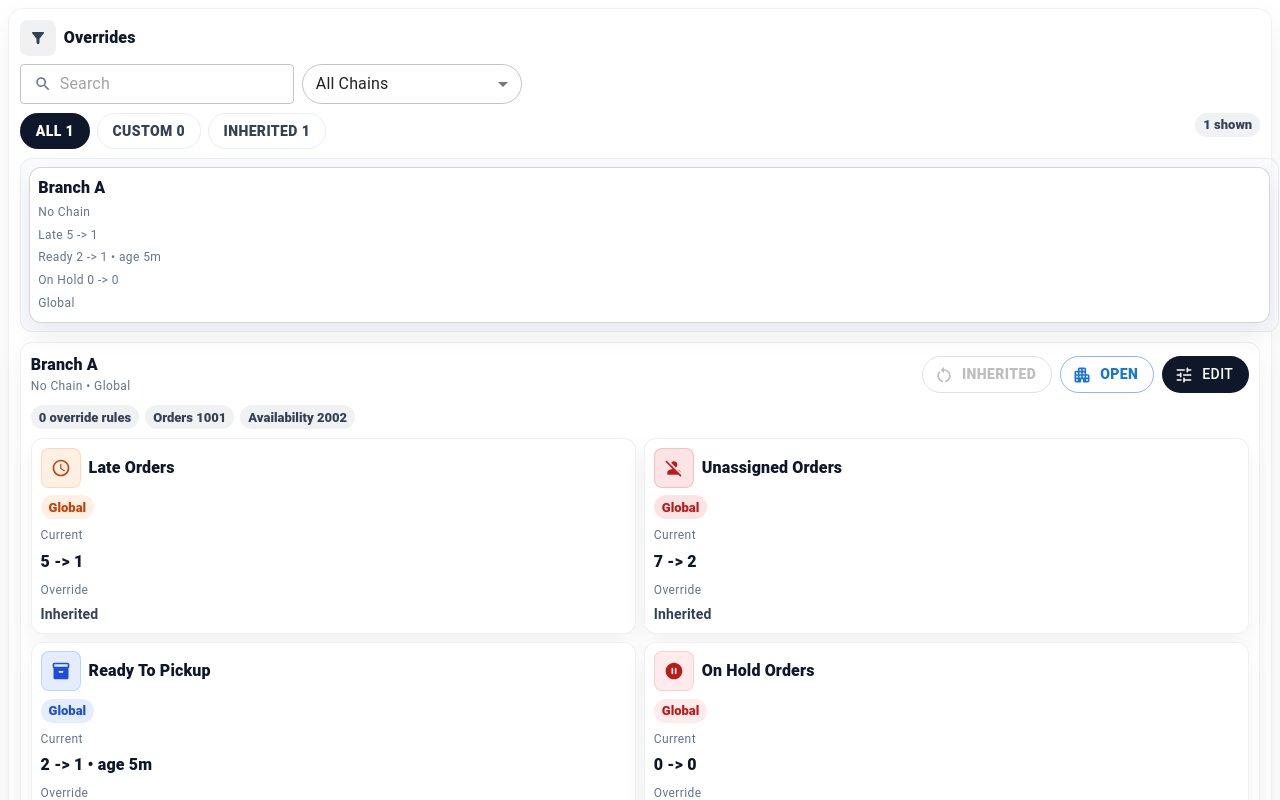
Test: BranchThresholdOverrideManager › opens a branch popup when a branch card is selected, even with a null chain name
Expected: the text "No Chain" is shown, [38, 205, 90, 219]
Expected: the text "Late Orders" is shown, [89, 456, 175, 480]
Click the 1st text "Branch A" at (72, 188), box [38, 178, 105, 197]
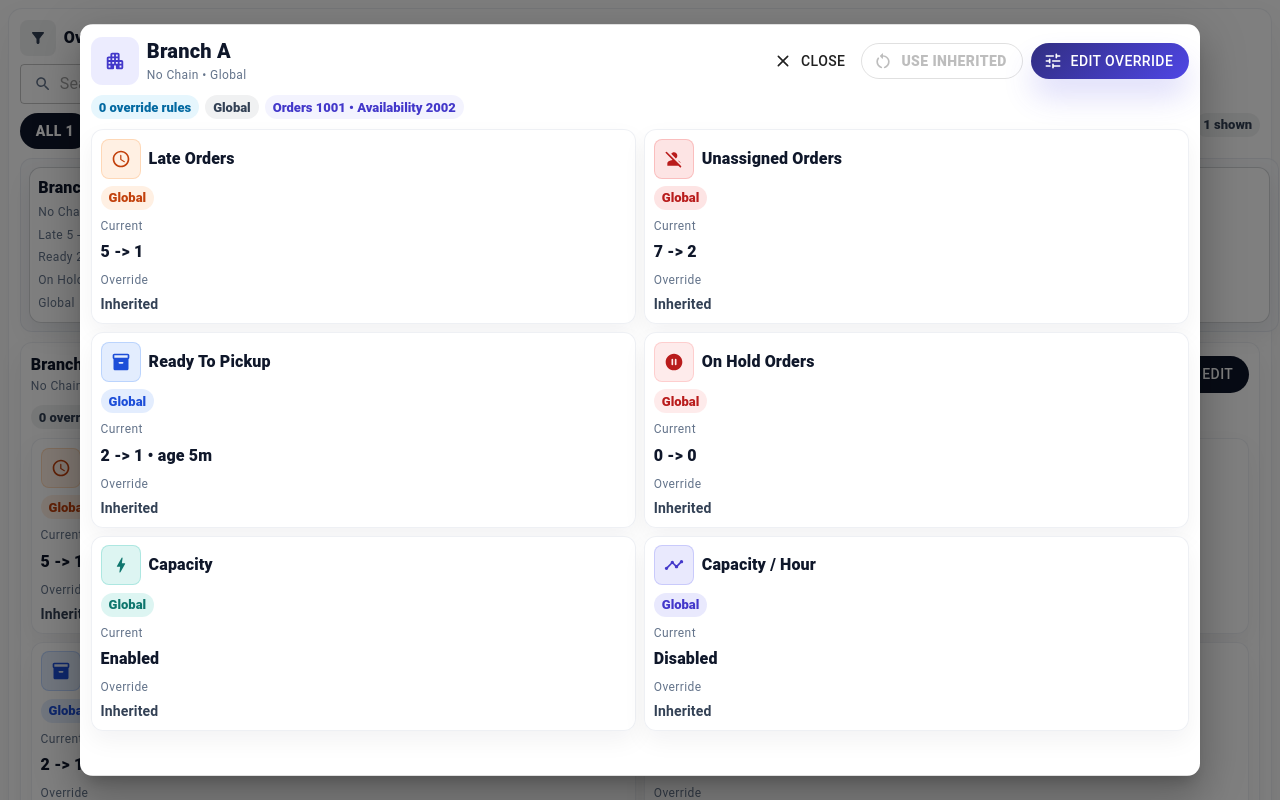
Now the dialog with test id "branch-details-dialog" is shown
Now the button "Edit Override" is shown, box [1031, 42, 1189, 79]
